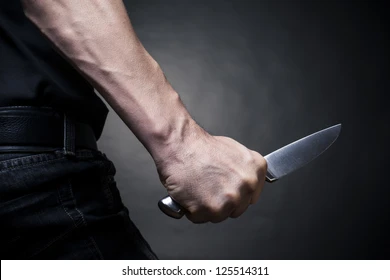knife: (144, 123, 355, 213)
